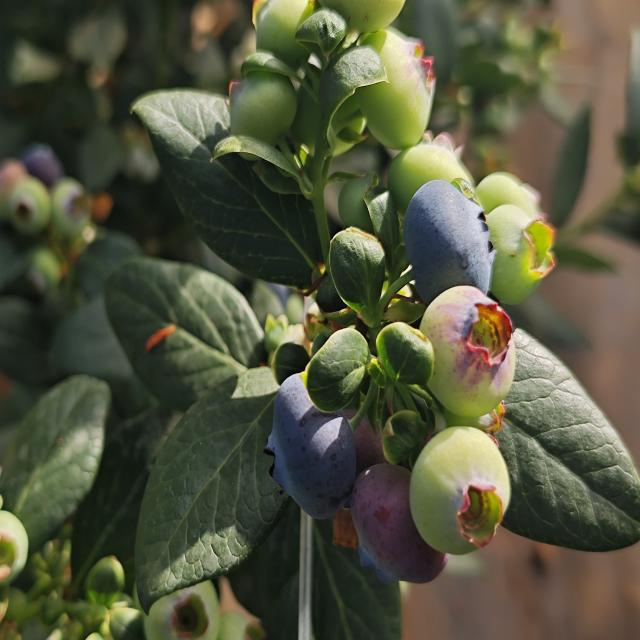ripe: (397, 174, 513, 313), (264, 358, 357, 520), (350, 467, 456, 591), (21, 142, 69, 193)
